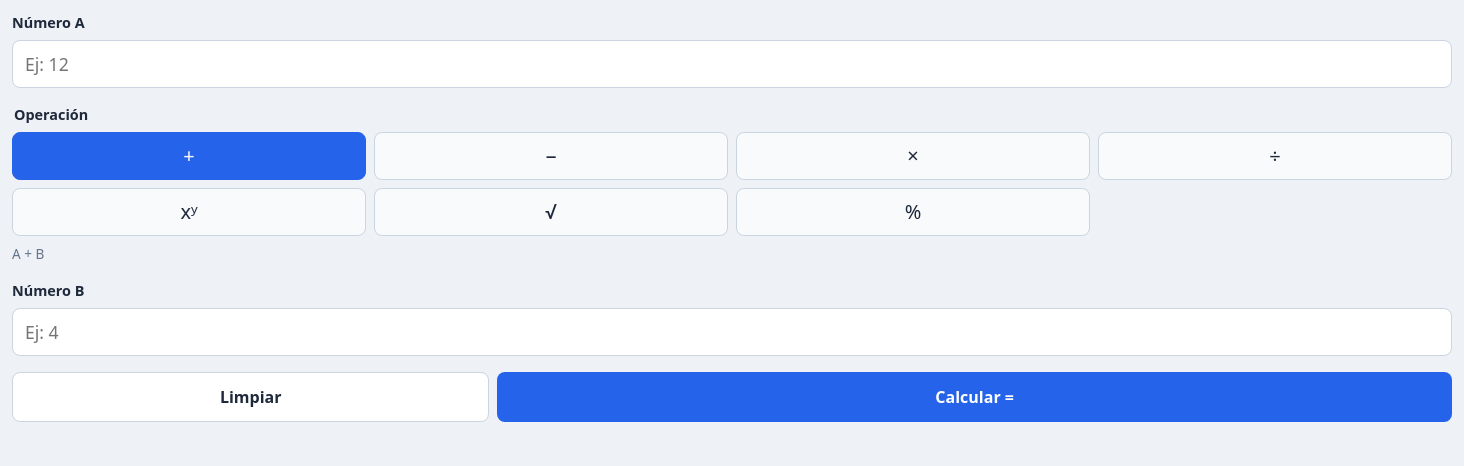
CalculatorForm › muestra un error si lo escrito no es un número
The width and height of the screenshot is (1464, 466).
Type "hola" into the field labelled "Número A" at (732,64), box [12,40,1452,88]
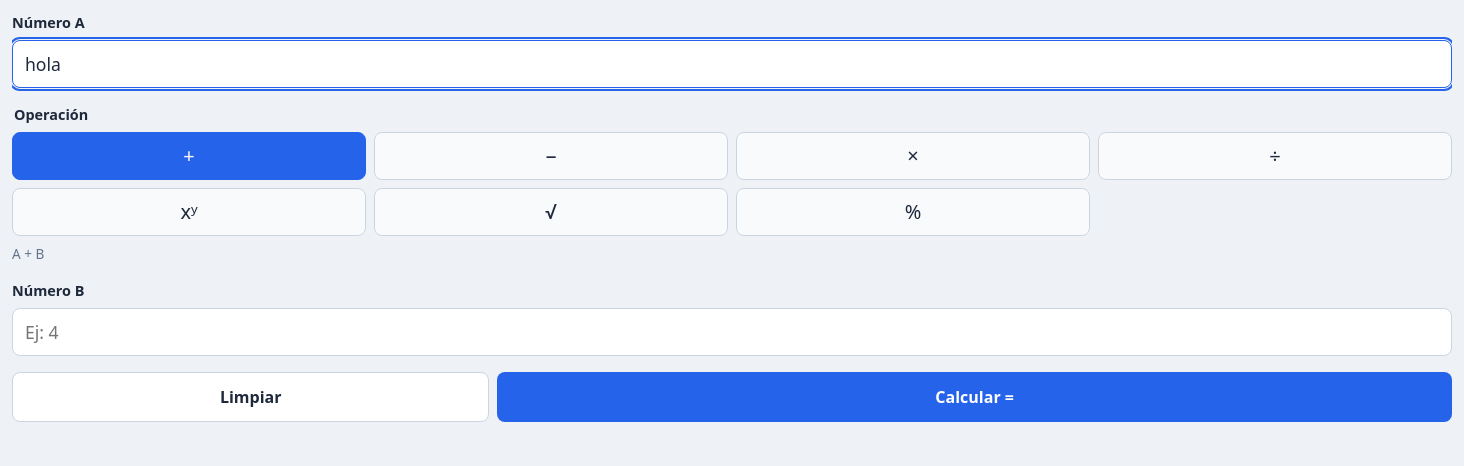
Type "2" into the field labelled "Número B" at (732,332), box [12,308,1452,356]
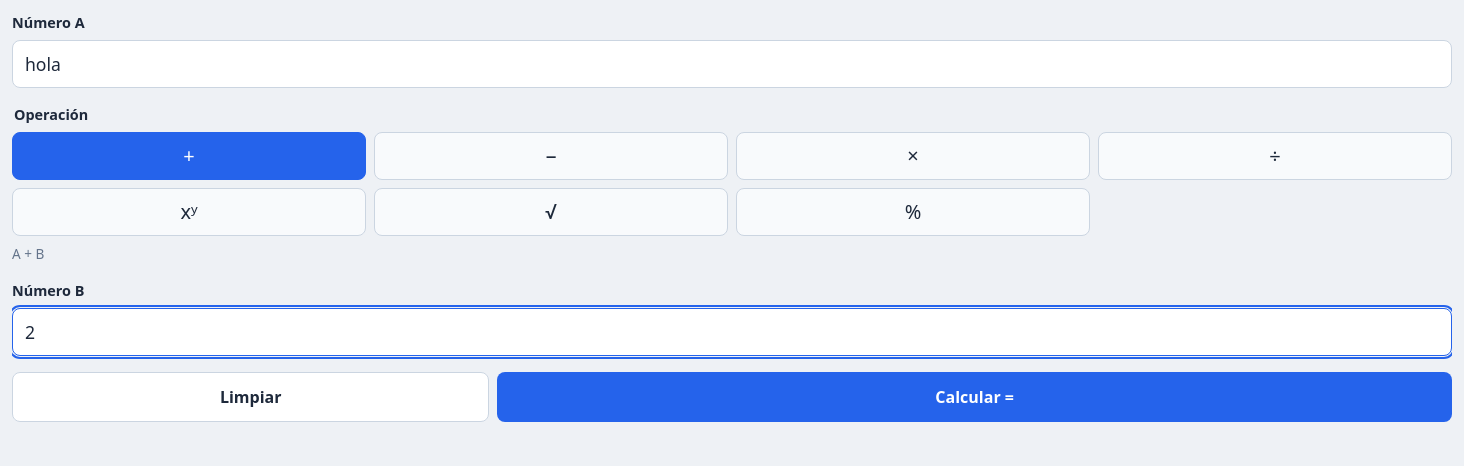
Click the button "Calcular =" at (975,397), box [497,372,1452,422]
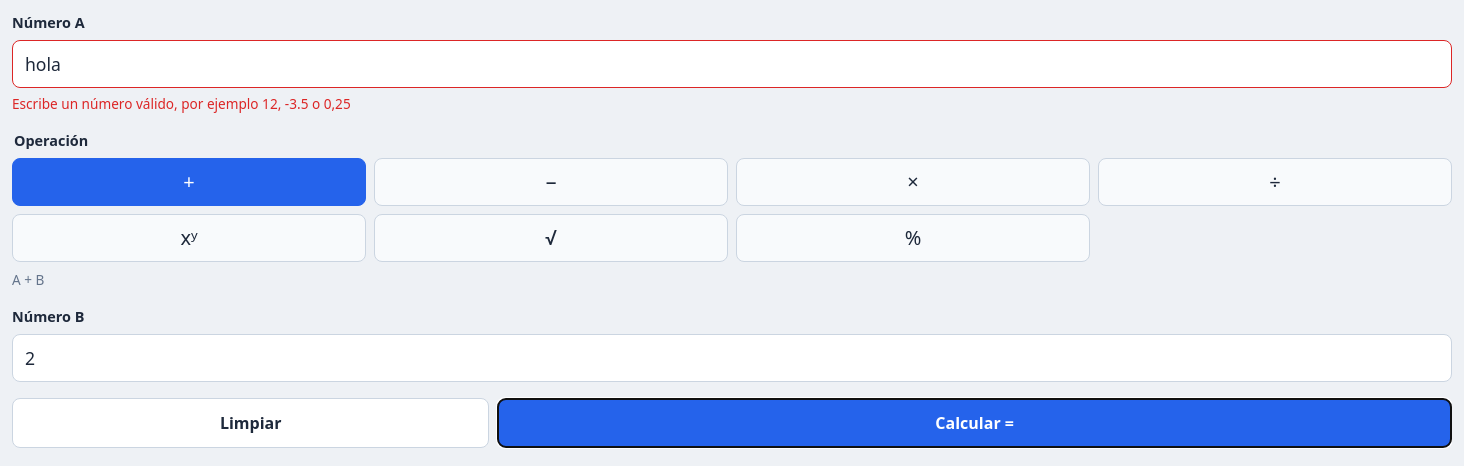
Now the text "Escribe un número válido, por ejemplo 12, -3.5 o 0,25" is shown, box [12,94,351,113]
